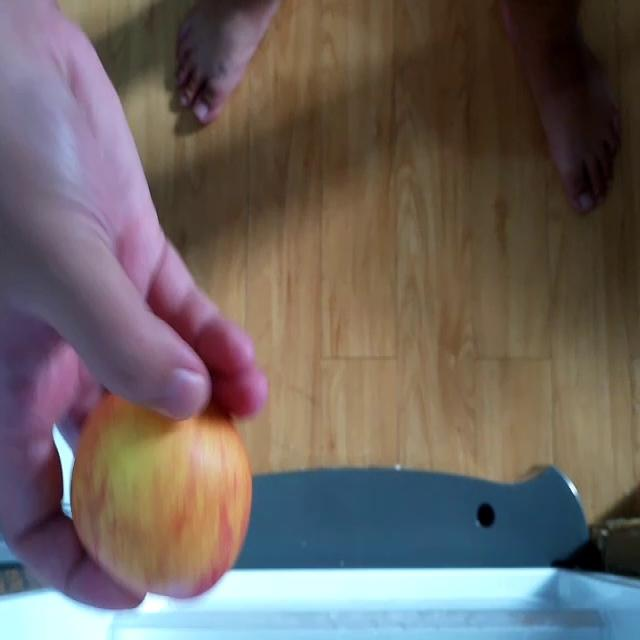apple: (65, 391, 250, 605)
